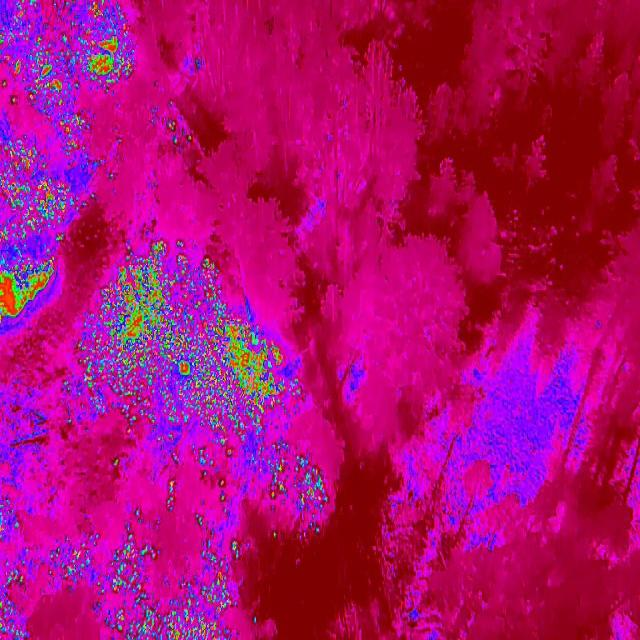fire: (76, 243, 295, 439), (0, 0, 136, 112), (0, 136, 78, 246), (266, 443, 336, 542), (93, 591, 230, 640), (0, 250, 58, 328), (186, 538, 246, 594), (106, 541, 158, 593), (50, 533, 100, 586), (200, 438, 243, 493), (0, 567, 30, 640), (52, 110, 95, 156), (147, 114, 198, 152), (59, 378, 80, 432), (0, 498, 21, 542), (190, 511, 220, 538), (122, 505, 145, 537), (164, 473, 179, 515), (110, 452, 122, 472)
